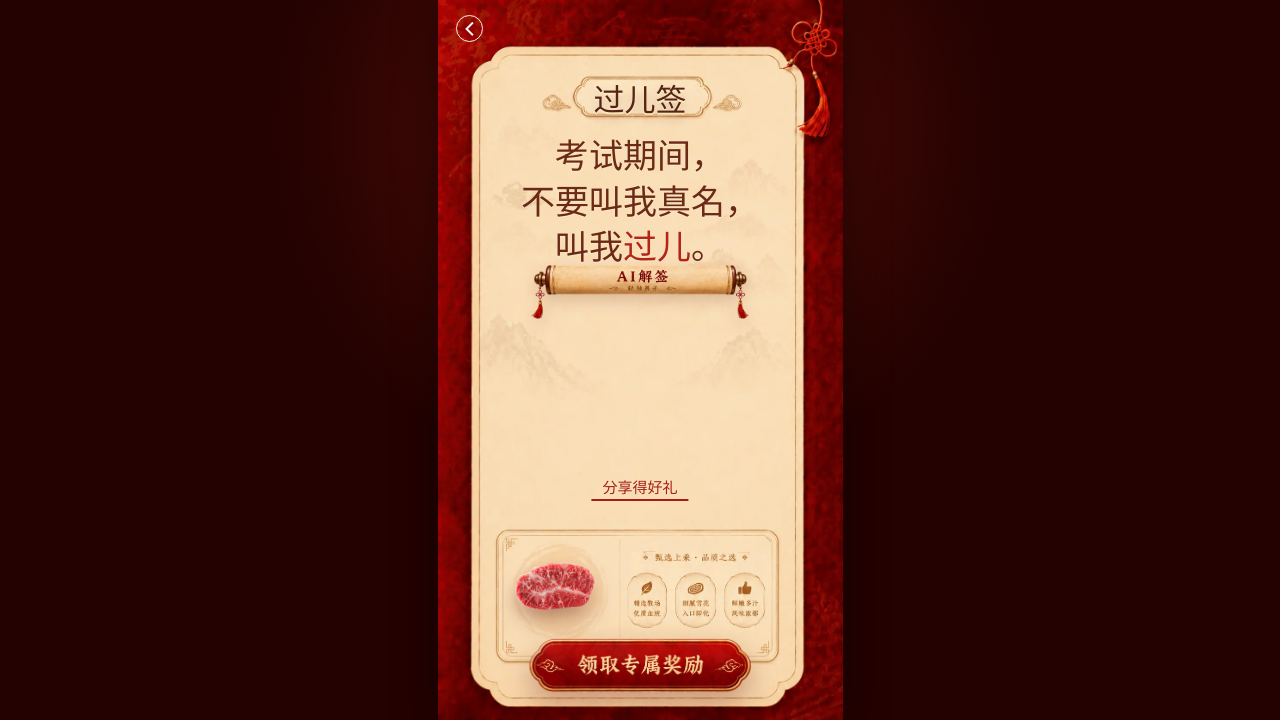
P1 activity home › does not redirect to the coupon page when mobile claim fails
Click the button with test id "p2-claim-benefit". click: (640, 665)
box: [527, 636, 753, 695]
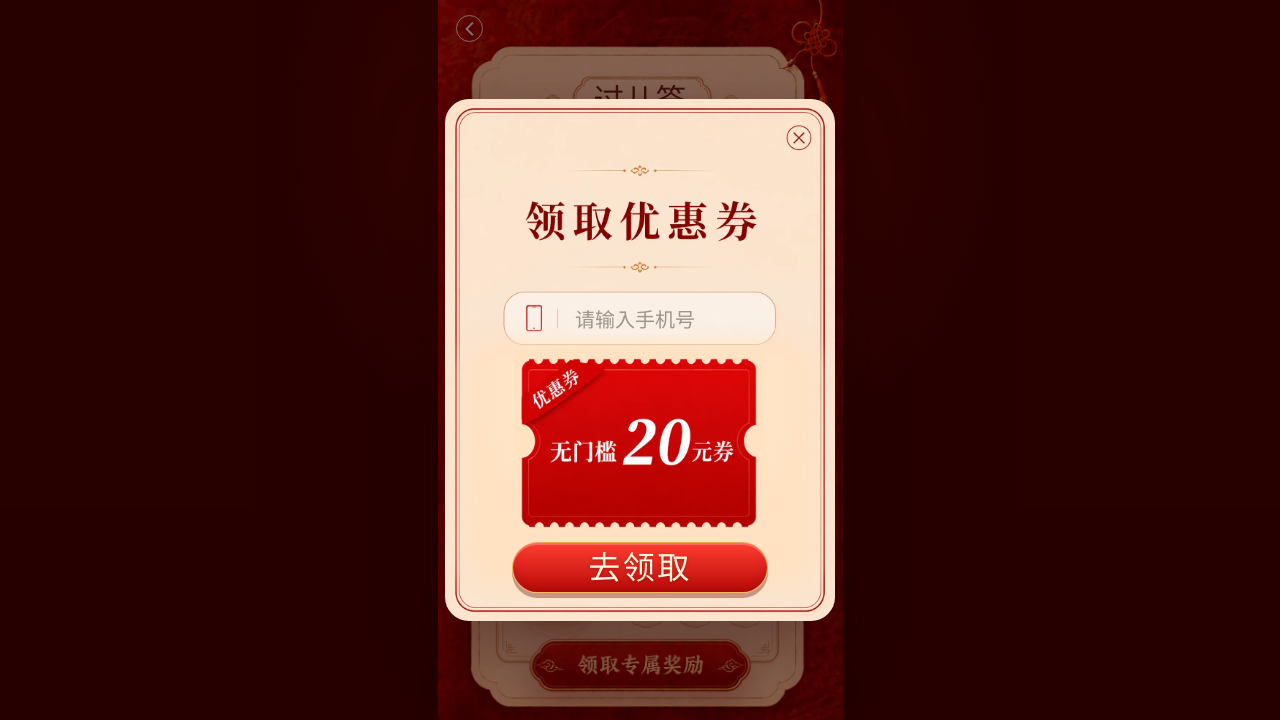
Type "13800138000" into the field with test id "p5-mobile-input". click: (673, 321)
box: [569, 305, 777, 336]
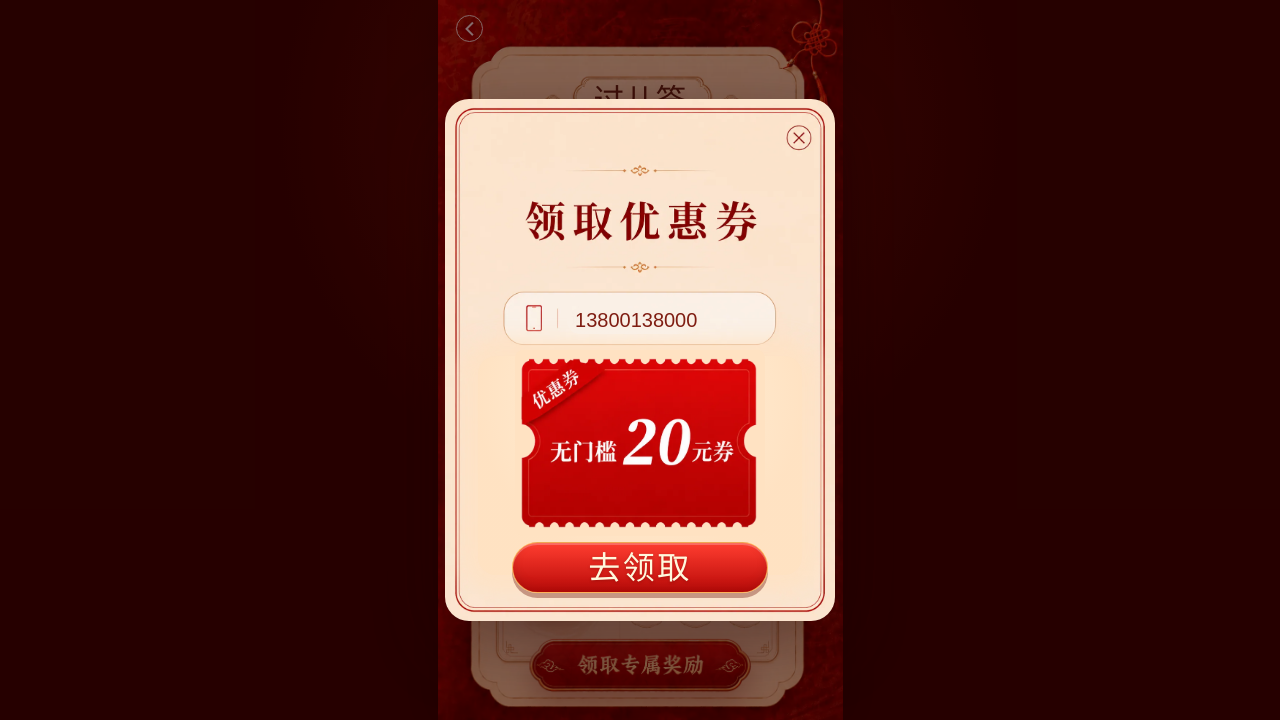
Submit the form from the button with test id "p5-submit-claim", box [512, 542, 768, 593]
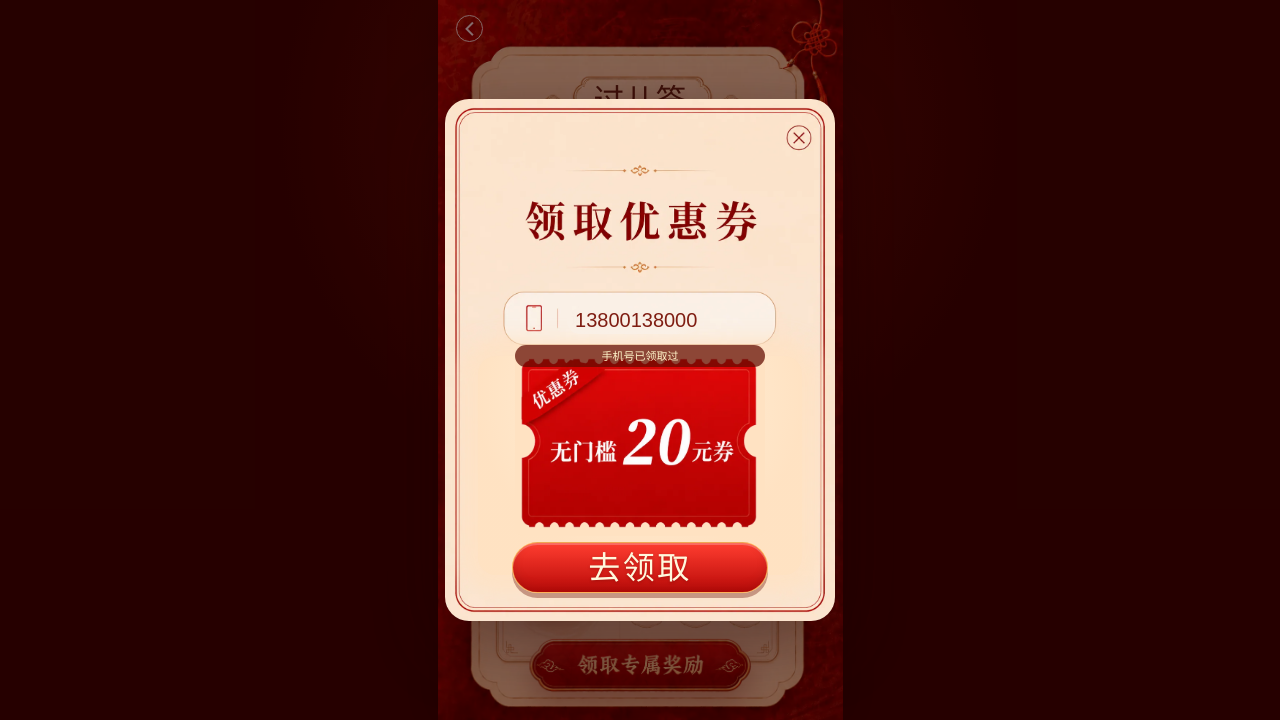
Now the text "手机号已领取过" is shown, box [515, 345, 765, 367]
